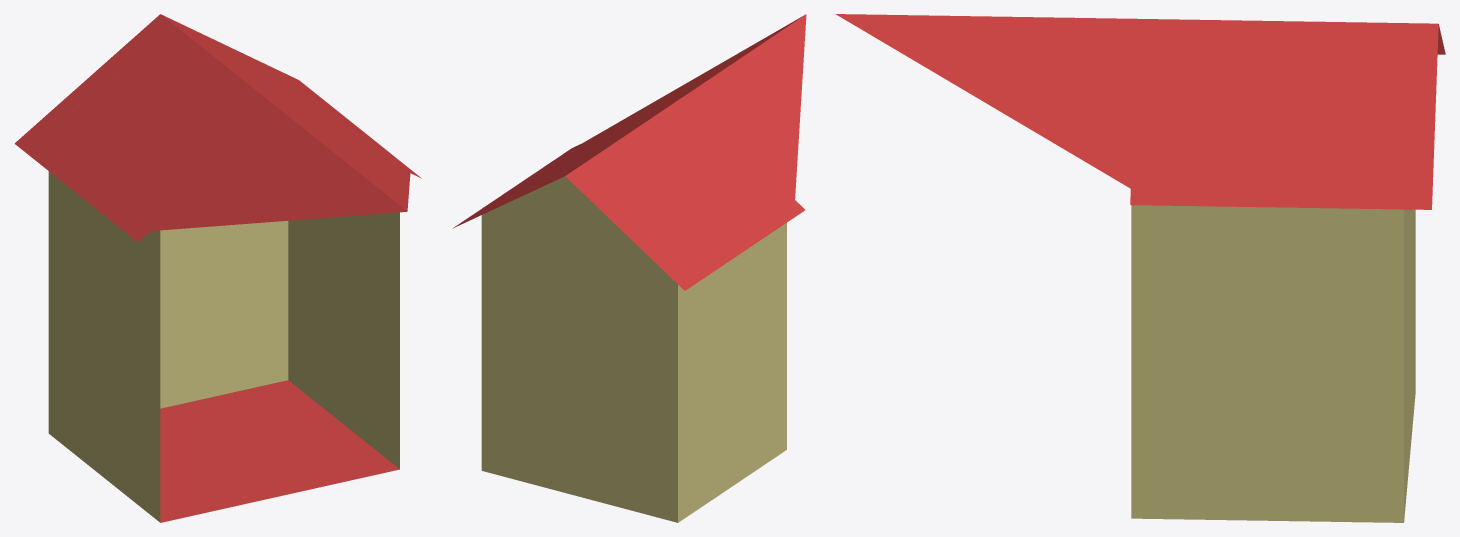
The picture shows the model from 3 angles, left to right: view 1: azimuth 30°, elevation 25°; view 2: azimuth 150°, elevation 25°; view 3: azimuth 270°, elevation 25°; orthographic projection. The views are drawn at different scales.
Bounding box in the file's own units: 6.51 × 10.5 × 8.28.
